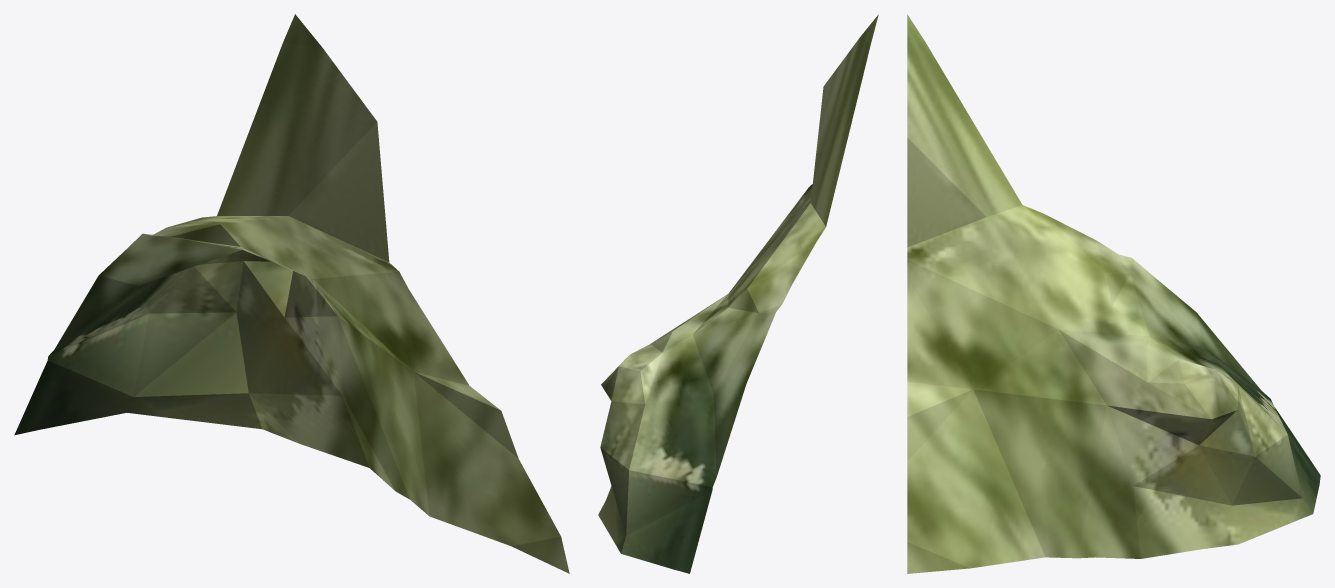
The picture shows the model from 3 angles, left to right: view 1: azimuth 30°, elevation 25°; view 2: azimuth 150°, elevation 25°; view 3: azimuth 270°, elevation 25°; orthographic projection. The views are drawn at different scales.
Size of the model in its own units: 0.6907 by 1.51 by 1.22.
Materials: 1 (1 with a texture image).
